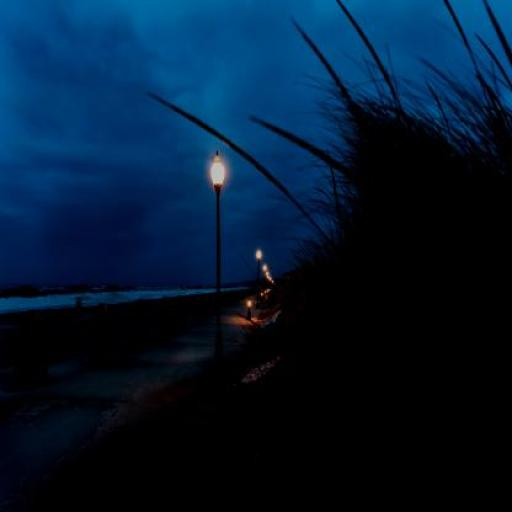street light: (210, 151, 226, 363), (256, 250, 260, 308), (264, 265, 266, 299), (266, 272, 268, 295), (267, 276, 269, 294), (270, 277, 270, 292)
